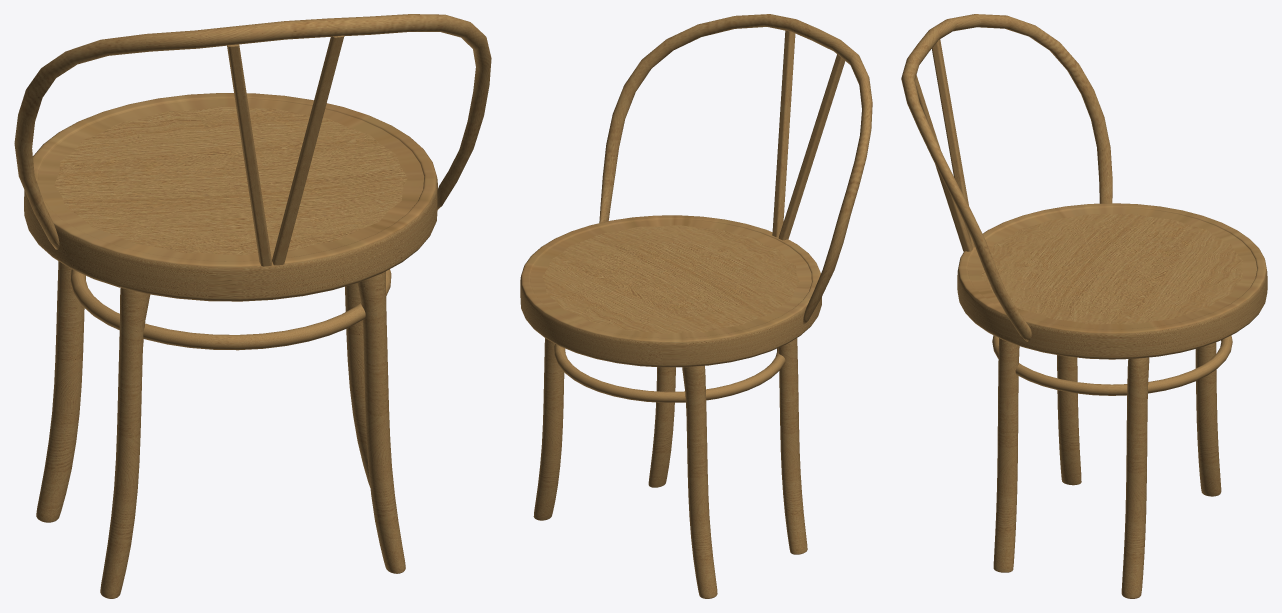
The model's file is Chair2.glb.
3 renders of one model, left to right at view 1: azimuth 30°, elevation 25°; view 2: azimuth 150°, elevation 25°; view 3: azimuth 270°, elevation 25°, orthographic. The views are drawn at different scales.
Parts seen in each view (by area): view 1: SM_MERGED_StaticMeshActor_6t; view 2: SM_MERGED_StaticMeshActor_6t; view 3: SM_MERGED_StaticMeshActor_6t.
Boxes of the visible parts, x1,y1,x2,y2 form: SM_MERGED_StaticMeshActor_6t: (14, 14, 491, 598); SM_MERGED_StaticMeshActor_6t: (520, 14, 872, 598); SM_MERGED_StaticMeshActor_6t: (901, 14, 1267, 598).
Bounding box in the file's own units: 0.7234 × 1.06 × 0.748.
1 material, 1 textured.
